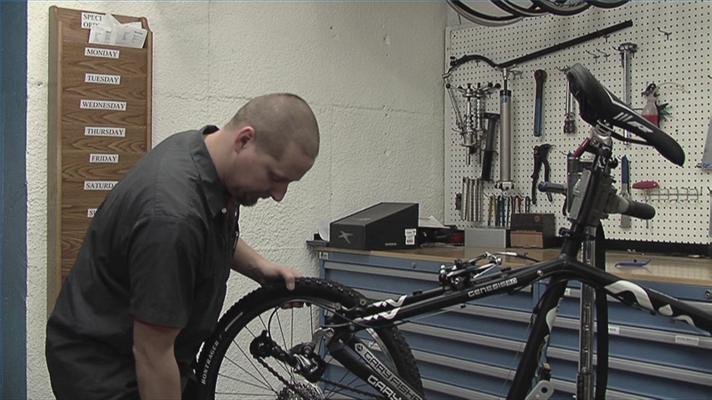person: (45, 91, 323, 397)
